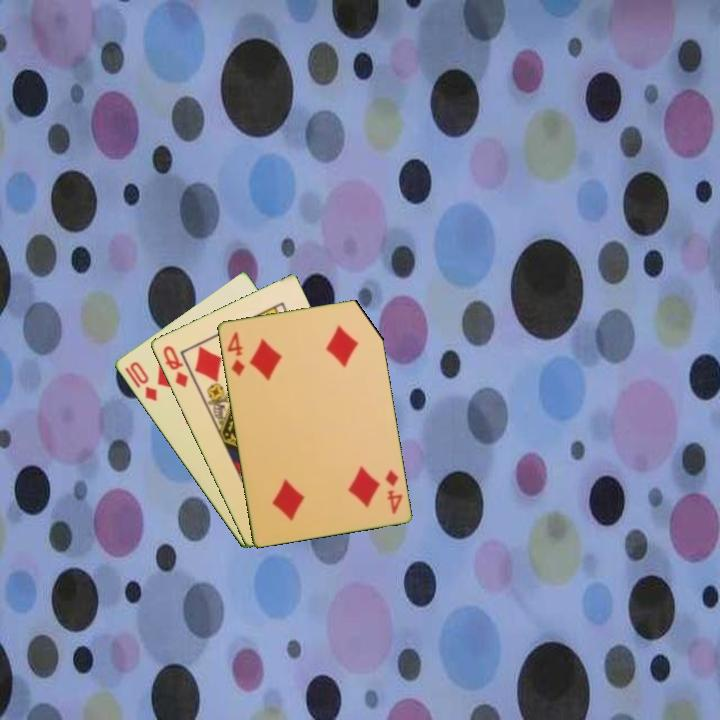10d: (126, 358, 160, 404)
4d: (381, 466, 405, 517), (223, 328, 247, 378)
Qd: (159, 342, 190, 391)
